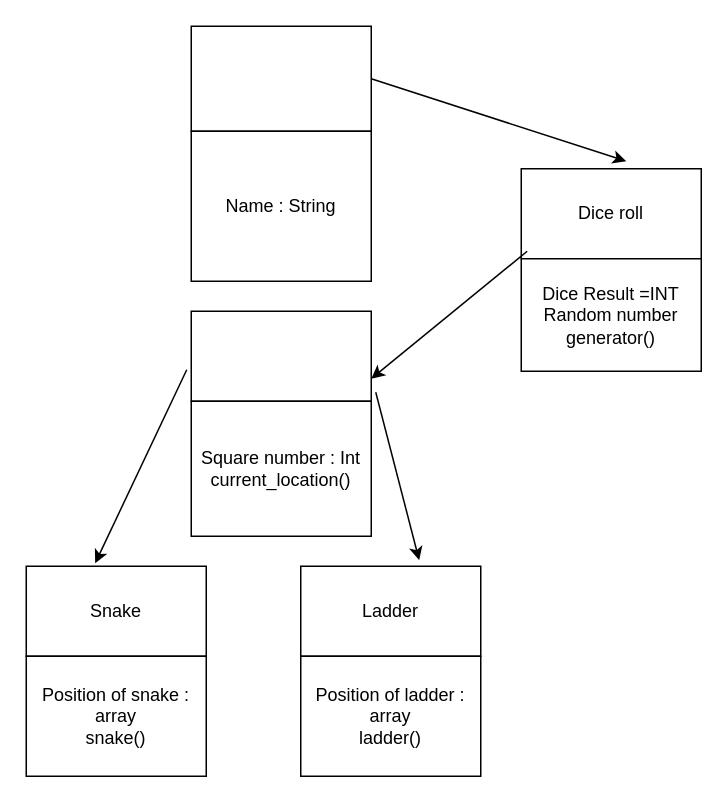
Image size: 728x803. Some labels were removed from this diagram. Here are the shapes that lost their labels. From the top down, the centre of each, then its label:
the point at 280,78: Player
the point at 280,355: Position
